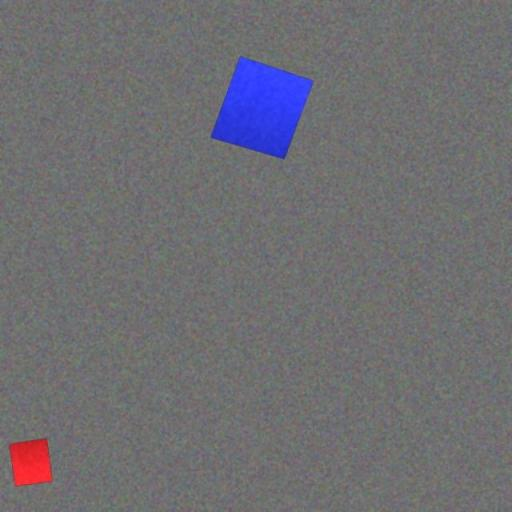BLUE_SQUARE: (210, 56, 314, 160)
RED_SQUARE: (8, 438, 53, 487)
